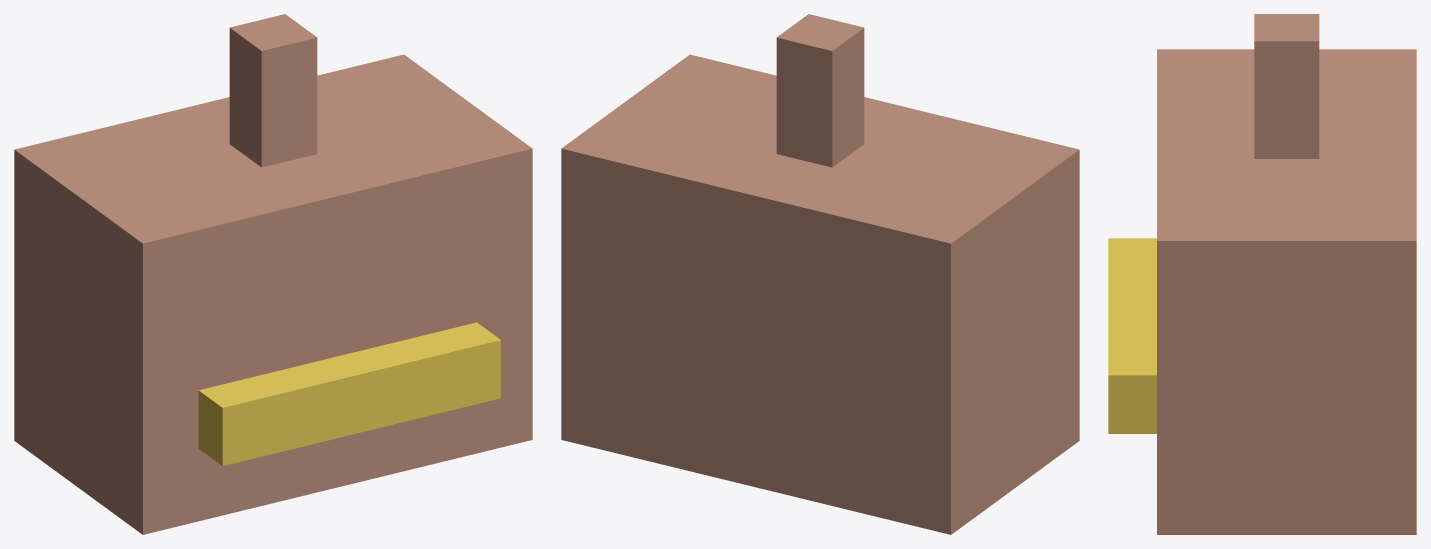
The model's file is theater_frontage.glb.
3 views of the same model, side by side, from view 1: azimuth 30°, elevation 25°; view 2: azimuth 150°, elevation 25°; view 3: azimuth 270°, elevation 25° (orthographic).
Visible parts, largest first — view 1: body, marquee, sign_tower; view 2: body, sign_tower; view 3: body, marquee, sign_tower.
Boxes of the visible parts, x1=… form: body: x1=14, y1=54, x2=532, y2=534; marquee: x1=198, y1=322, x2=500, y2=465; sign_tower: x1=229, y1=14, x2=317, y2=167; body: x1=561, y1=54, x2=1079, y2=534; sign_tower: x1=776, y1=14, x2=864, y2=167; body: x1=1157, y1=49, x2=1416, y2=534; marquee: x1=1108, y1=238, x2=1156, y2=433; sign_tower: x1=1254, y1=14, x2=1319, y2=158.
Size of the model in its own units: 14 by 14 by 9.5.
